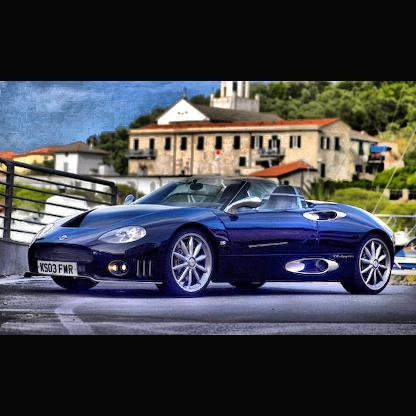Spyker C8 Convertible 2009: (23, 175, 400, 298)
